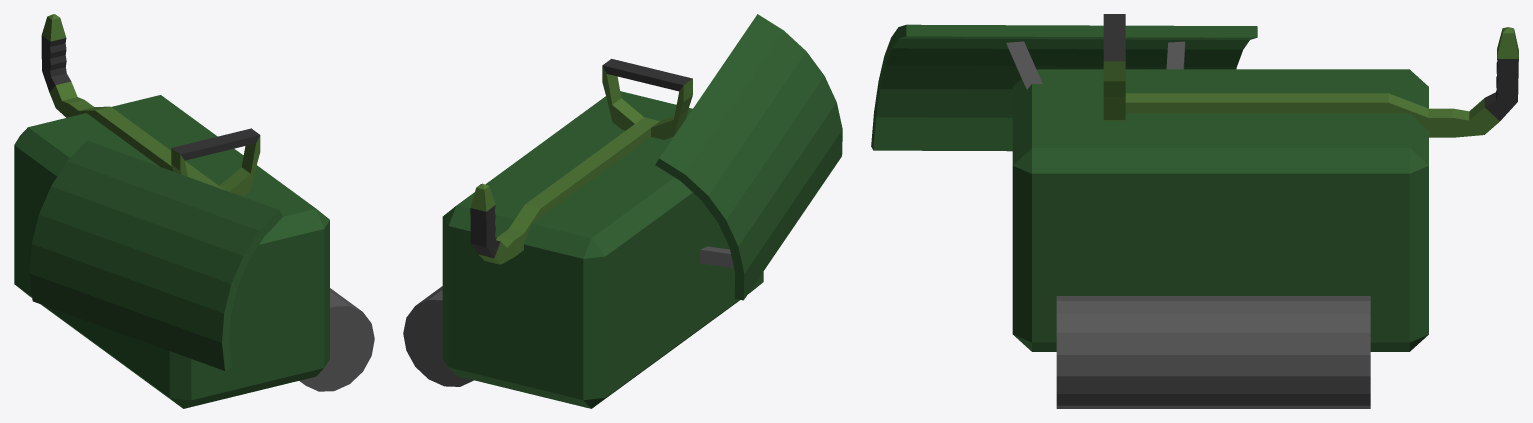
The model's file is MiniGun.fbx.
3 renders of one model, left to right at view 1: azimuth 30°, elevation 25°; view 2: azimuth 150°, elevation 25°; view 3: azimuth 270°, elevation 25°, orthographic. The views are drawn at different scales.
Parts seen in each view (by area): view 1: MiniGun; view 2: MiniGun; view 3: MiniGun.
Boxes of the visible parts, x1,y1,x2,y2 form: MiniGun: (14,14,374,408); MiniGun: (403,14,842,408); MiniGun: (871,14,1518,408).
Bounding box in the file's own units: 444 × 406 × 743.
